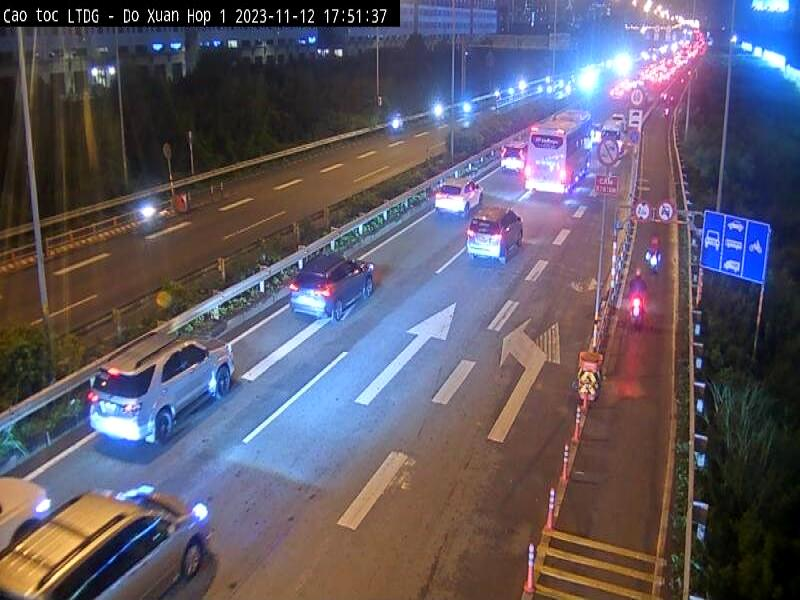bus: (522, 107, 593, 199)
